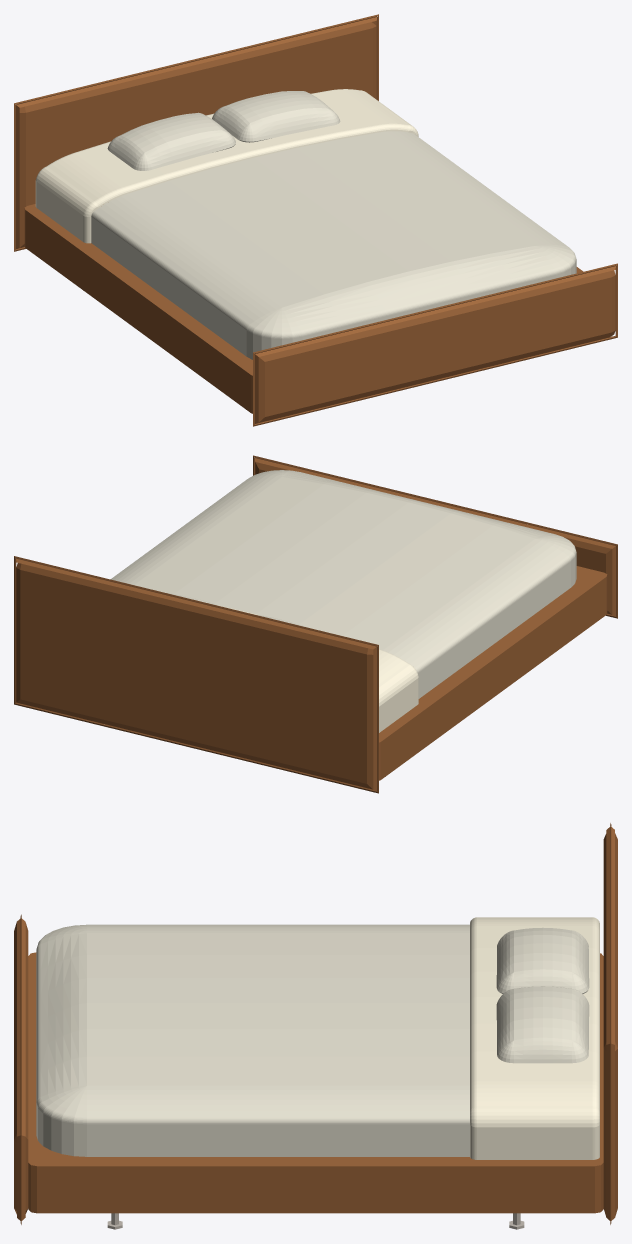
The model's file is Bed.glb.
3 renders of one model, top to bottom at view 1: azimuth 30°, elevation 25°; view 2: azimuth 150°, elevation 25°; view 3: azimuth 270°, elevation 25°, orthographic. The views are drawn at different scales.
Visible parts, largest first — view 1: Node; view 2: Node; view 3: Node.
Part boxes in pixels (bbox=[...]): Node: bbox=[14, 14, 617, 426]; Node: bbox=[14, 455, 617, 793]; Node: bbox=[14, 823, 617, 1229].
Bounding box in the file's own units: 71.94 × 31.49 × 83.53.
